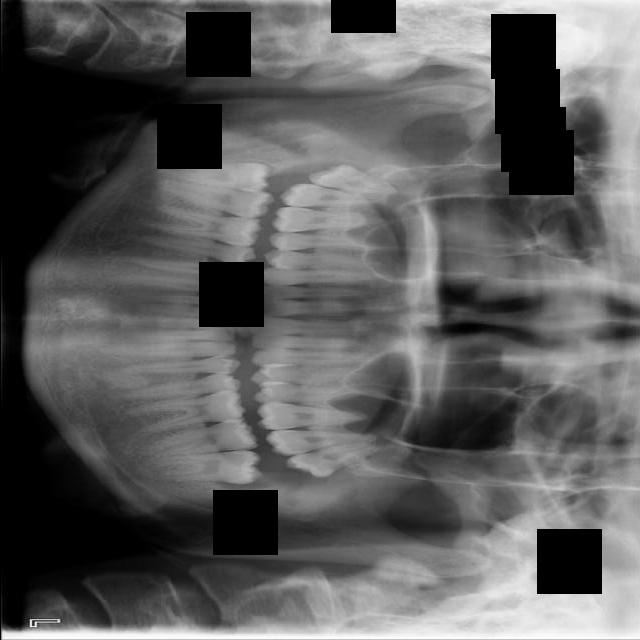3M ESPE Implant: (306, 159, 397, 198)
73: (48, 560, 66, 562)
BioHorizons Implant: (264, 429, 368, 457)
BioLife Implant: (283, 430, 383, 487)
Biomet 3i Implant: (149, 447, 263, 485)
Blue Sky Bio Implant: (149, 417, 258, 457)
Caries: (279, 184, 386, 207)
Implant: (152, 177, 274, 221)
Keystone Dental Implant: (163, 160, 271, 193)
